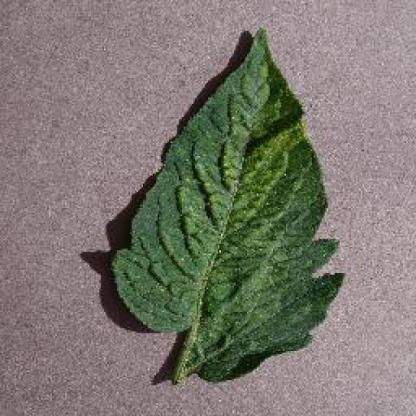Tomato_Spider_Mites: (114, 29, 344, 369)
